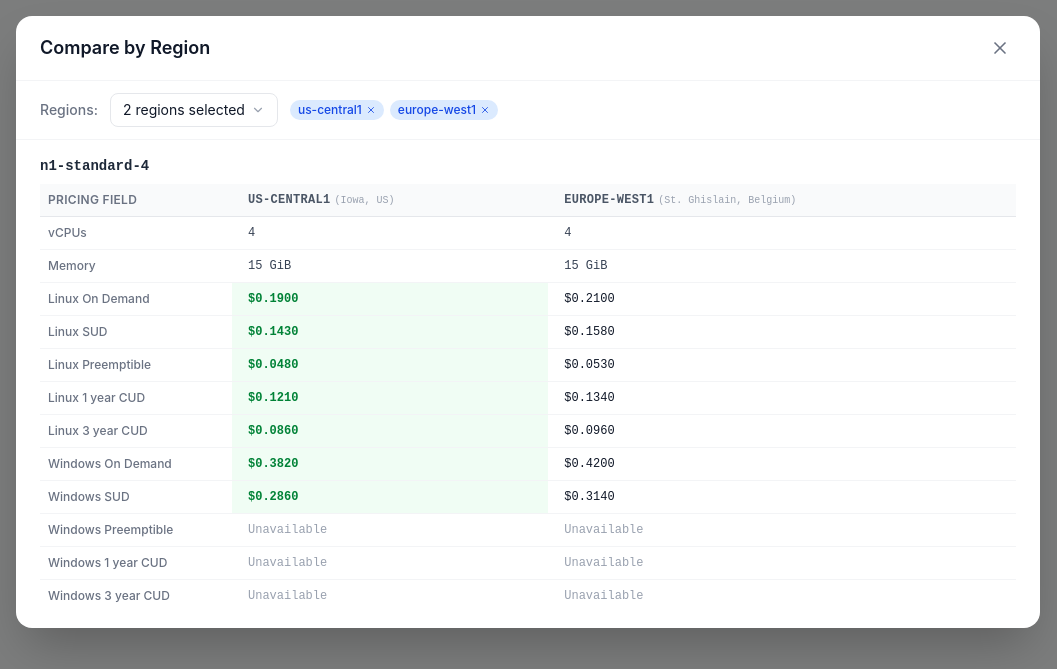
RegionCompareDialog › highlights cheapest price across regions
What coordinates should you click on to do the following:
click the button "2 regions selected"
I would click on:
 (194, 110)
Its box is x1=110 y1=93 x2=278 y2=127.
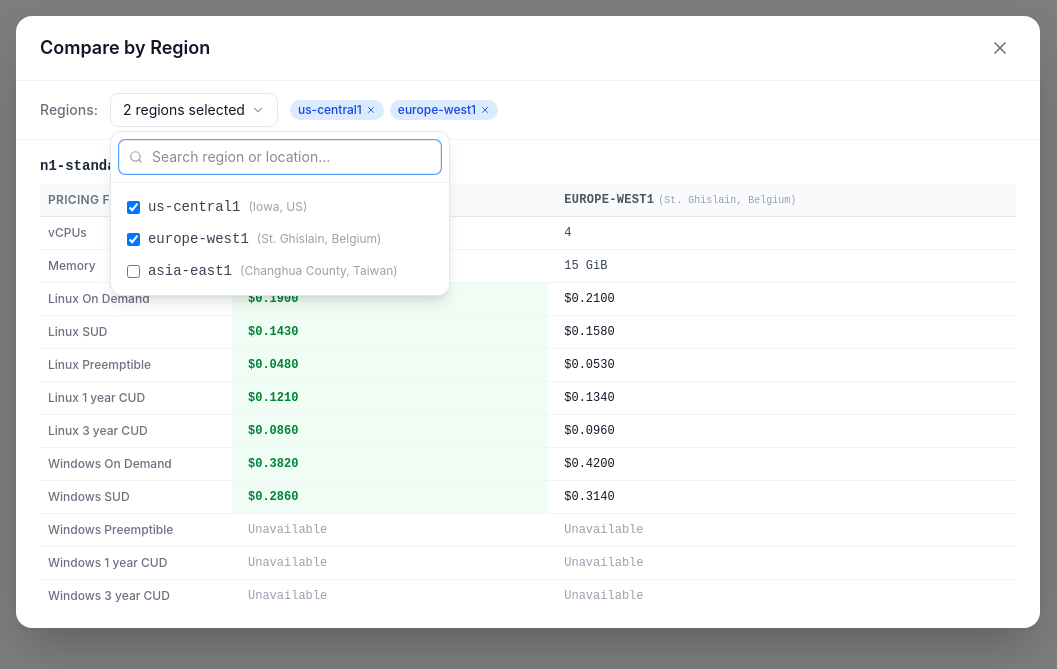
What coordinates should you click on to do the following:
click the checkbox labelled "asia-east1 (Changhua County, Taiwan)"
I would click on:
 (134, 271)
Its box is x1=127 y1=264 x2=140 y2=278.
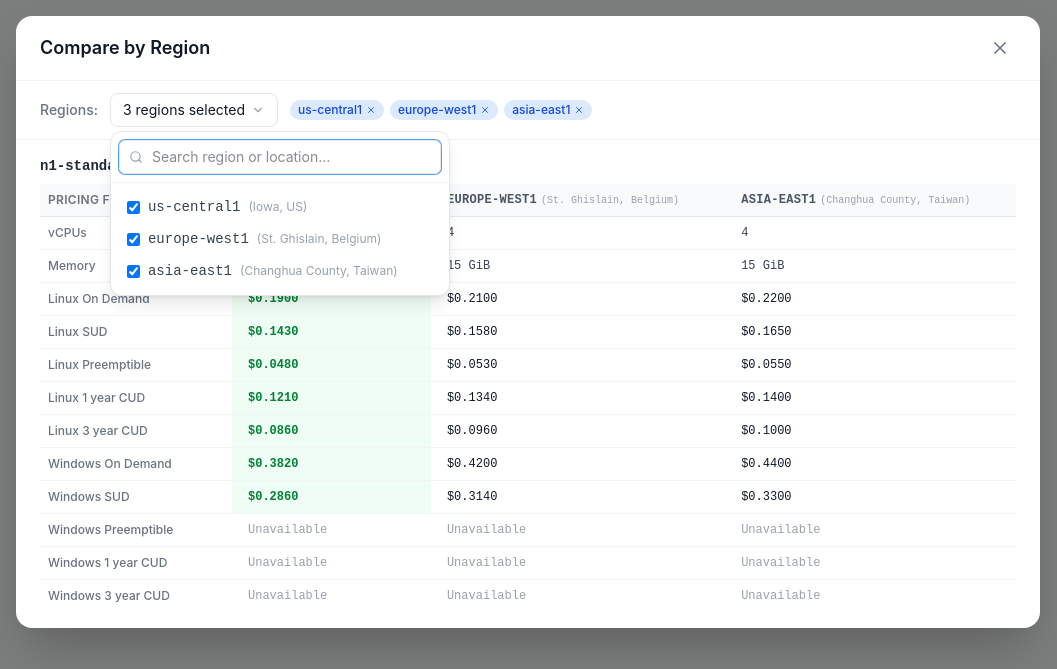
Expected: the text "$0.1430" is shown, x1=232 y1=316 x2=431 y2=348
Result: the text "$0.1650" is shown at x1=725 y1=316 x2=1016 y2=348
